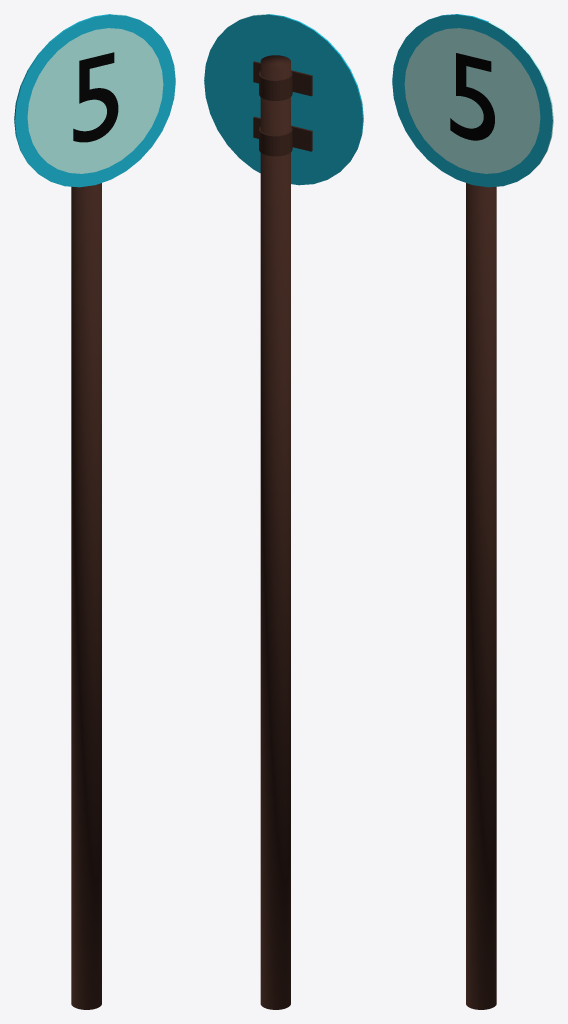
File: spot_sign_5.glb
3 renders of one model, left to right at view 1: azimuth 30°, elevation 25°; view 2: azimuth 150°, elevation 25°; view 3: azimuth 330°, elevation 25°, orthographic.
Parts seen in each view (by area): view 1: Cube.004; view 2: Cube.004; view 3: Cube.004.
Part boxes in pixels (<box>): Cube.004: <box>14,14,175,1009</box>; Cube.004: <box>204,14,363,1009</box>; Cube.004: <box>392,14,553,1009</box>.
Bounding box in the file's own units: 0.3 × 1.77 × 0.0564.
